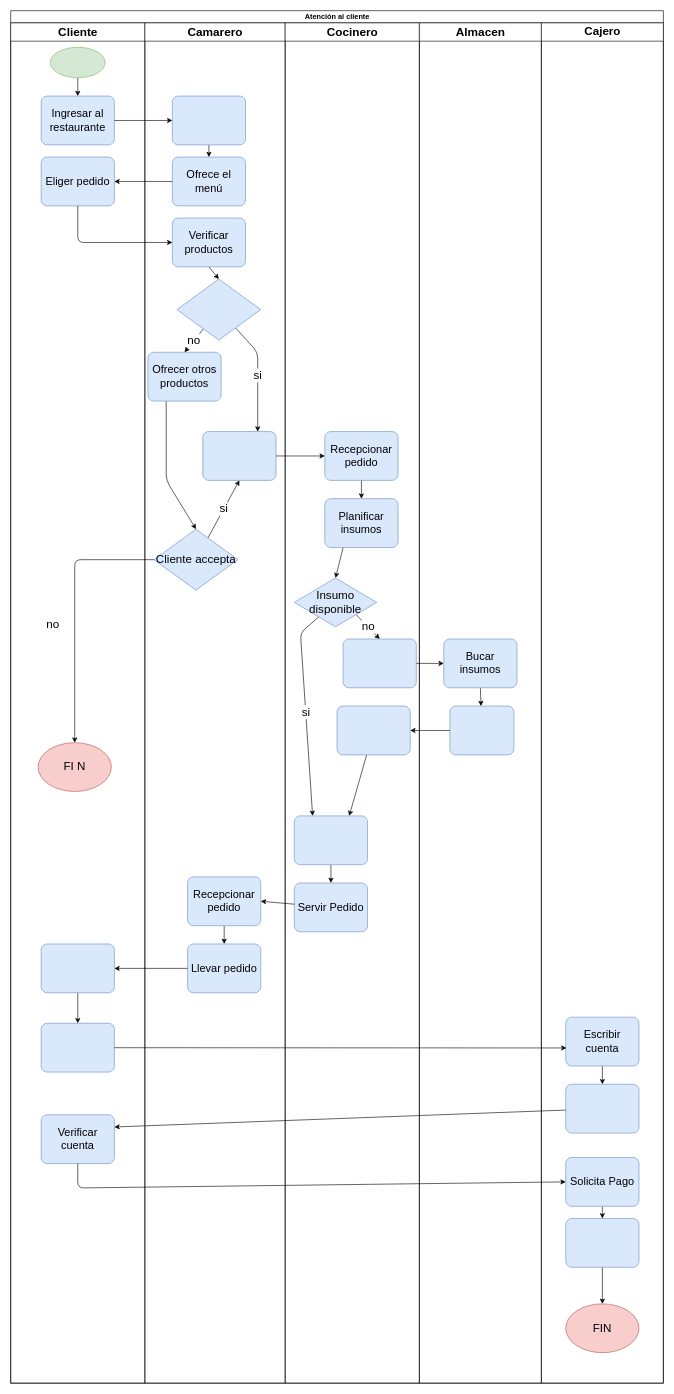
Image size: 674x1394. Some labels were removed from this diagram. The shapes that lost their labels are listed below. From the top down, each one's centre as x and y in pixels, then its label:
At (77,62): "INICIO".
At (209,120): "Recepcionar al cliente".
At (218,309): "Esta disponible".
At (239,455): "Registra pedido".
At (379,663): "Solicitar insumos".
At (373,730): "Recepcionar insumos".
At (481,730): "Llevar insumos".
At (331,840): "Preparar pedido".
At (77,968): "Recibir pedido".
At (77,1047): "Solicitar cuenta".
At (602,1108): "Entregar cuenta".
At (602,1242): "Recibir pago".
